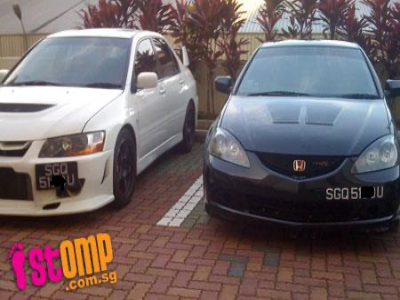licence: (321, 186, 386, 203)
